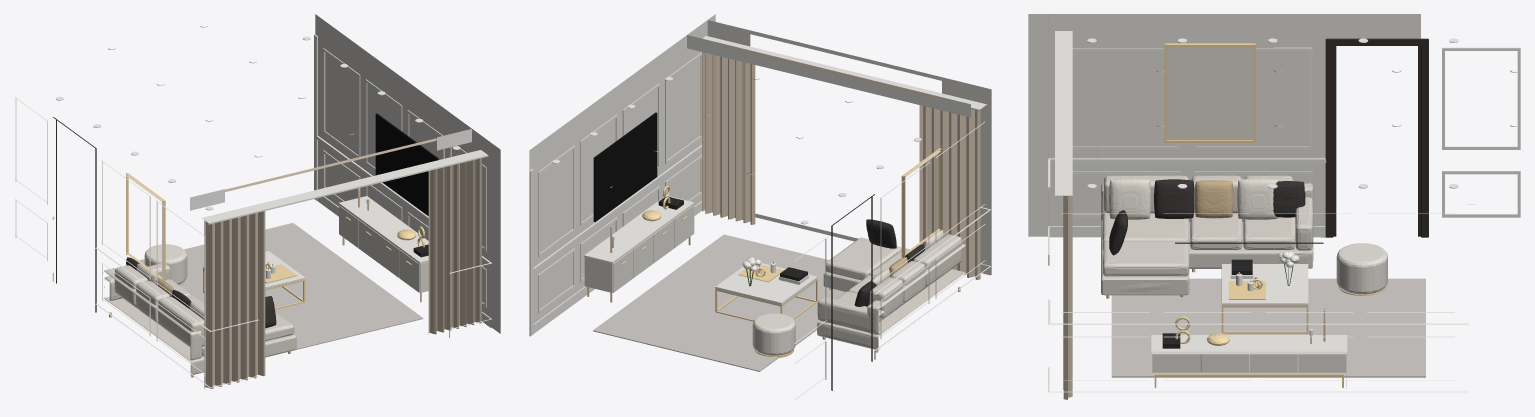
File: LIVING.glb
The picture shows the model from 3 angles, left to right: view 1: azimuth 30°, elevation 25°; view 2: azimuth 150°, elevation 25°; view 3: azimuth 270°, elevation 25°; orthographic projection. The views are drawn at different scales.
Visible parts, largest first — view 1: WEB_LIVING; view 2: WEB_LIVING; view 3: WEB_LIVING.
Boxes of the visible parts, <box> form: WEB_LIVING: <box>14,14,500,388</box>; WEB_LIVING: <box>529,14,991,400</box>; WEB_LIVING: <box>1028,14,1520,399</box>.
Size of the model in its own units: 4 by 2.5 by 5.01.
